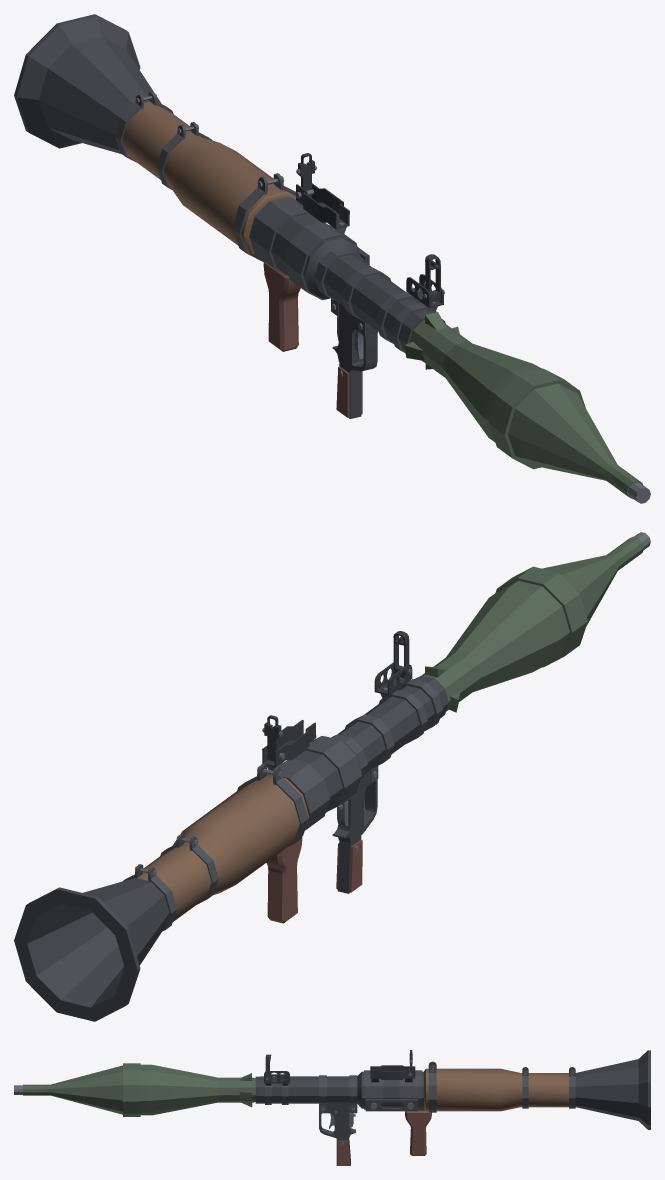
Rendered from low_-_poly_rpg_-_7_gun.glb.
3 renders of one model, top to bottom at view 1: azimuth 30°, elevation 25°; view 2: azimuth 150°, elevation 25°; view 3: azimuth 270°, elevation 25°, orthographic. The views are drawn at different scales.
Visible parts, largest first — view 1: pCylinder50, pCylinder3, polySurface97, pCylinder48, polySurface98, polySurface92, pCube55, polySurface101, polySurface16, polySurface93, polySurface94; view 2: pCylinder50, pCylinder3, polySurface97, polySurface98, pCylinder48, polySurface92, pCube55, polySurface16, polySurface101, polySurface94, polySurface93, pCube1; view 3: pCylinder50, pCylinder3, polySurface97, polySurface92, pCylinder48, pCube55, polySurface16, polySurface98, polySurface101, polySurface94, polySurface93, polySurface95 (+2 smaller).
Part boxes in pixels (box(x1,y1,x2,y2)): pCylinder50: box(404, 312, 650, 503); pCylinder3: box(122, 101, 296, 261); polySurface97: box(39, 37, 161, 154); pCylinder48: box(249, 197, 436, 353); polySurface98: box(14, 14, 140, 148); polySurface92: box(323, 254, 445, 350); pCube55: box(296, 153, 443, 308); polySurface101: box(263, 262, 300, 351); polySurface16: box(115, 91, 295, 262); polySurface93: box(249, 202, 359, 299); polySurface94: box(332, 303, 377, 371); pCylinder50: box(422, 532, 650, 724); pCylinder3: box(137, 774, 309, 921); polySurface97: box(43, 878, 169, 994); polySurface98: box(14, 887, 140, 1021); pCylinder48: box(267, 679, 442, 830); polySurface92: box(338, 675, 448, 773); pCube55: box(262, 631, 412, 767); polySurface16: box(122, 763, 308, 931); polySurface101: box(266, 837, 302, 923); polySurface94: box(332, 770, 377, 842); polySurface93: box(288, 736, 362, 812); pCube1: box(337, 835, 361, 893); pCylinder50: box(14, 1063, 254, 1116); pCylinder3: box(424, 1068, 568, 1111); polySurface97: box(575, 1059, 638, 1120); polySurface92: box(255, 1076, 349, 1103); pCylinder48: box(265, 1070, 422, 1112); pCube55: box(264, 1050, 415, 1083); polySurface16: box(428, 1061, 575, 1112); polySurface98: box(638, 1050, 650, 1129); polySurface101: box(405, 1110, 431, 1155); polySurface94: box(319, 1103, 356, 1138); polySurface93: box(357, 1071, 423, 1108); polySurface95: box(365, 1099, 417, 1111).
Bounding box in the file's own units: 6.63 × 10.8 × 52.66.
